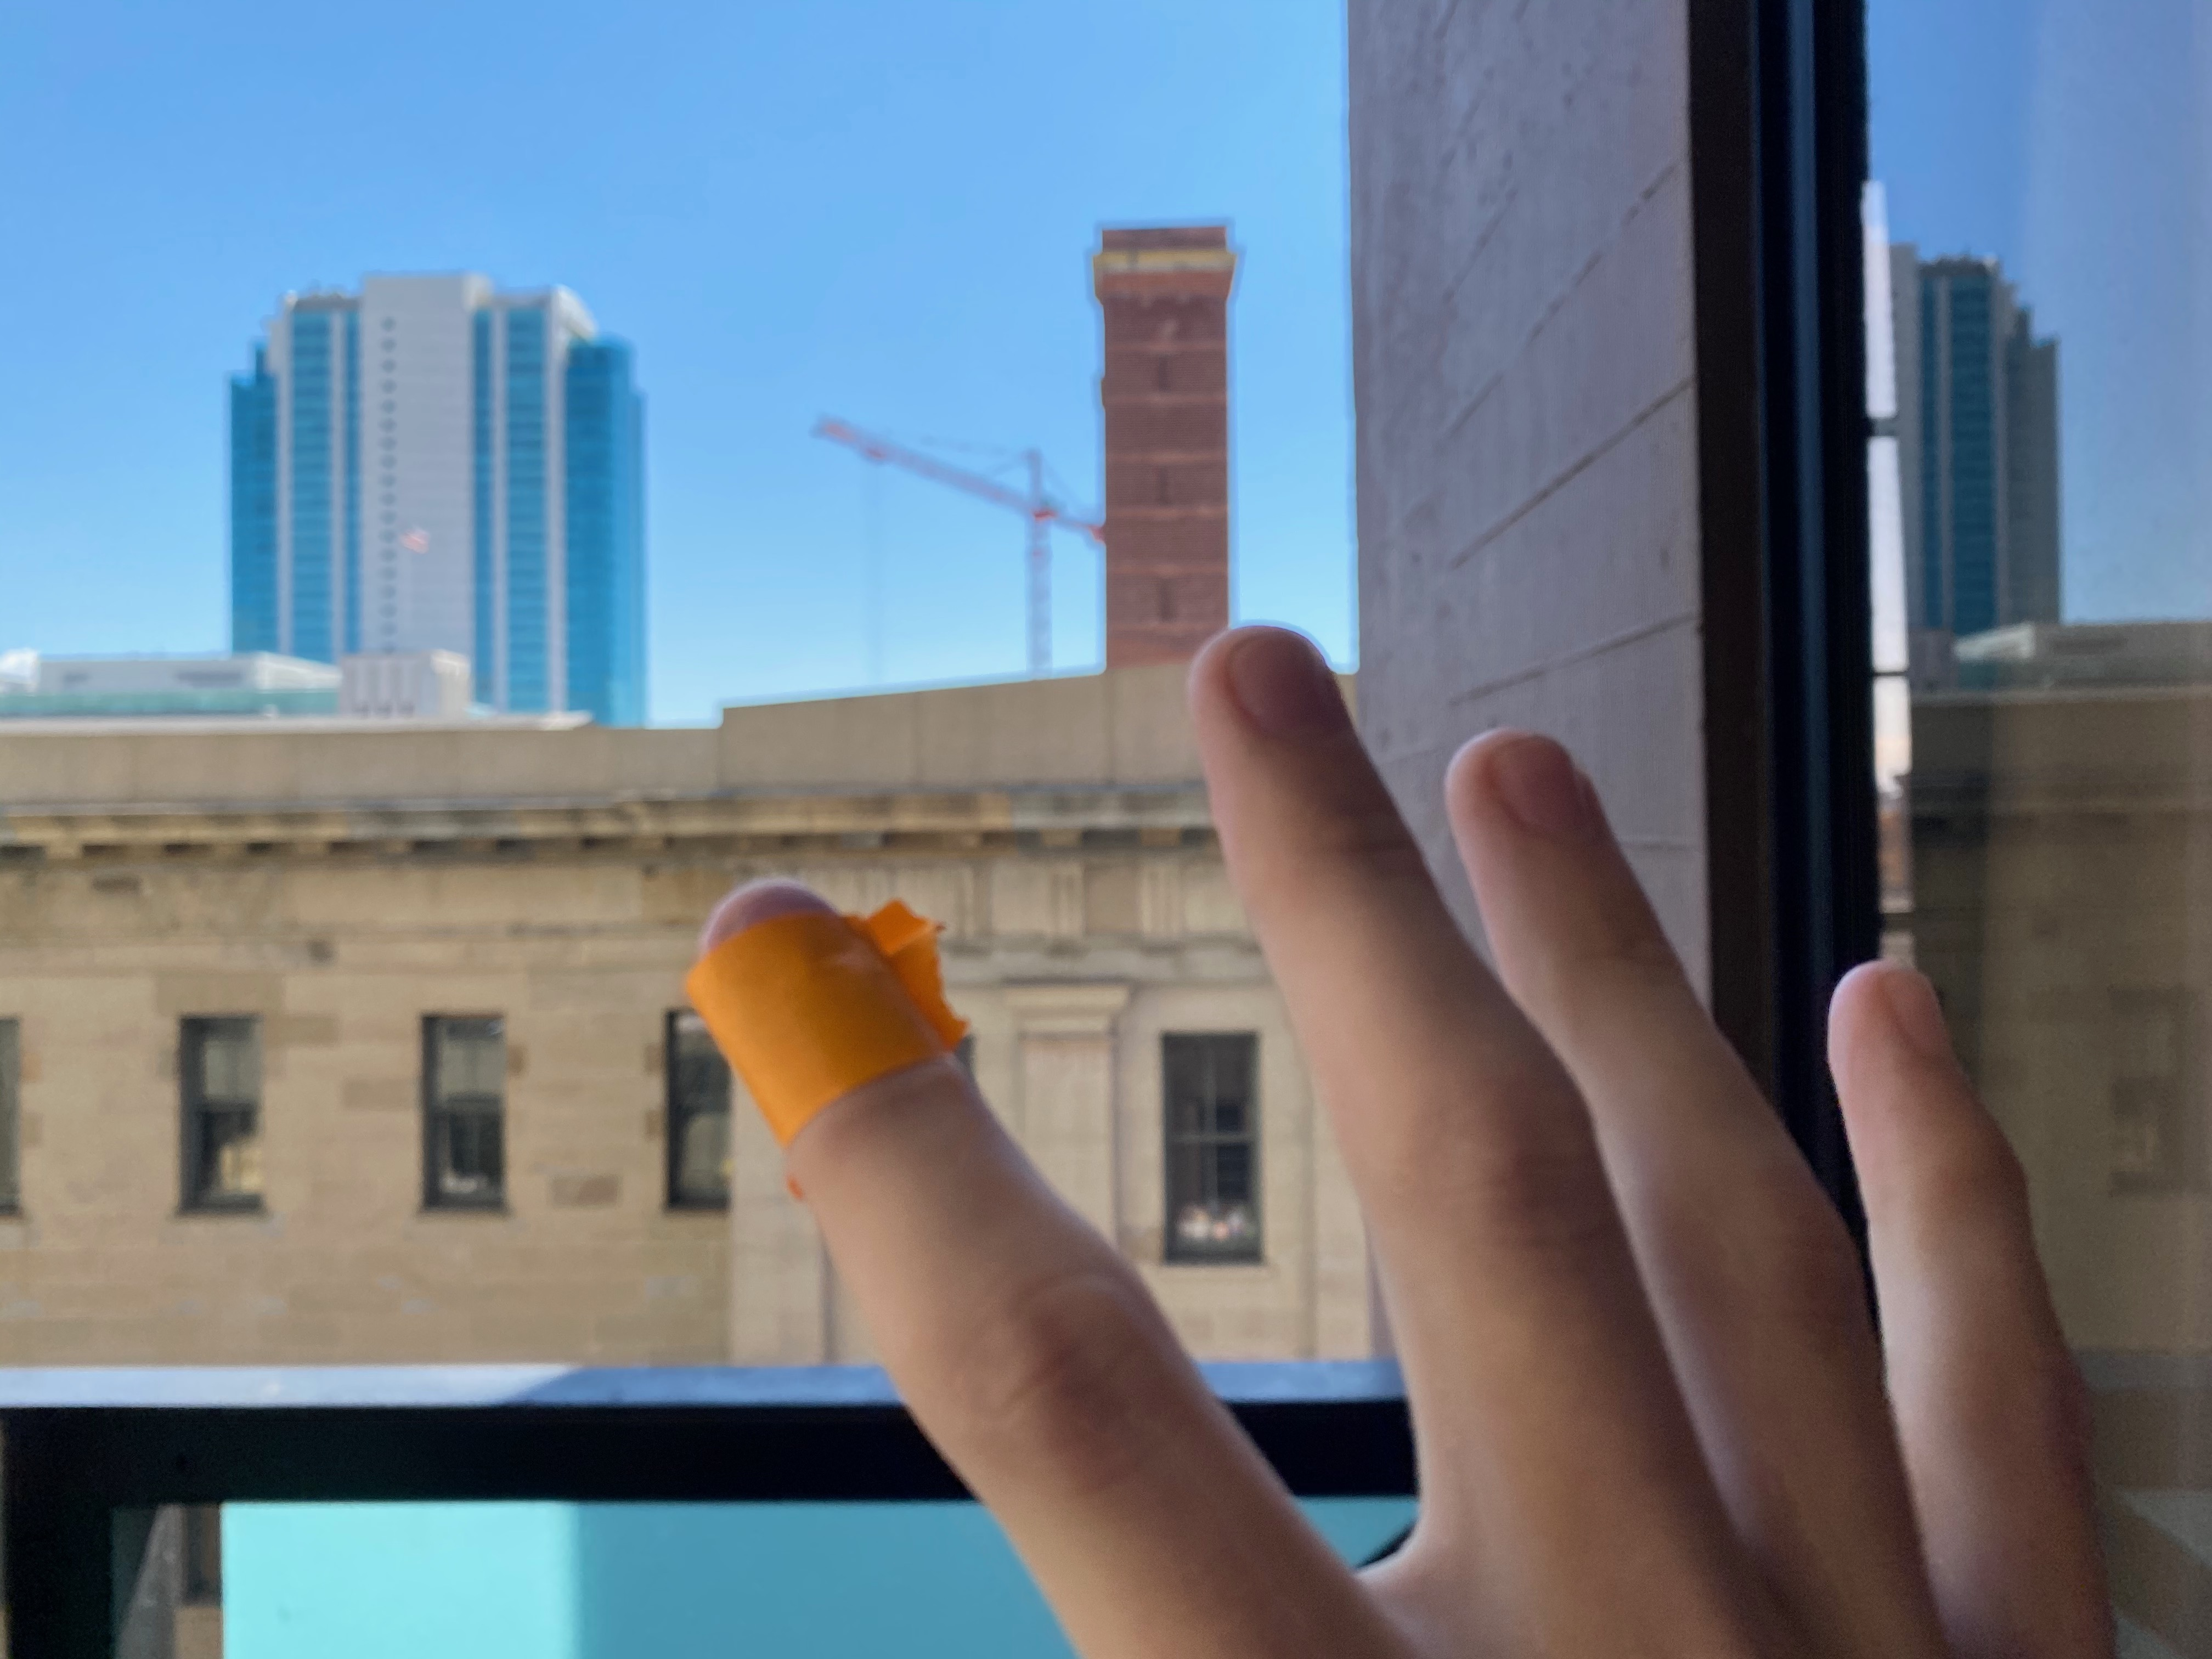fingertip: (691, 878, 1015, 1194)
